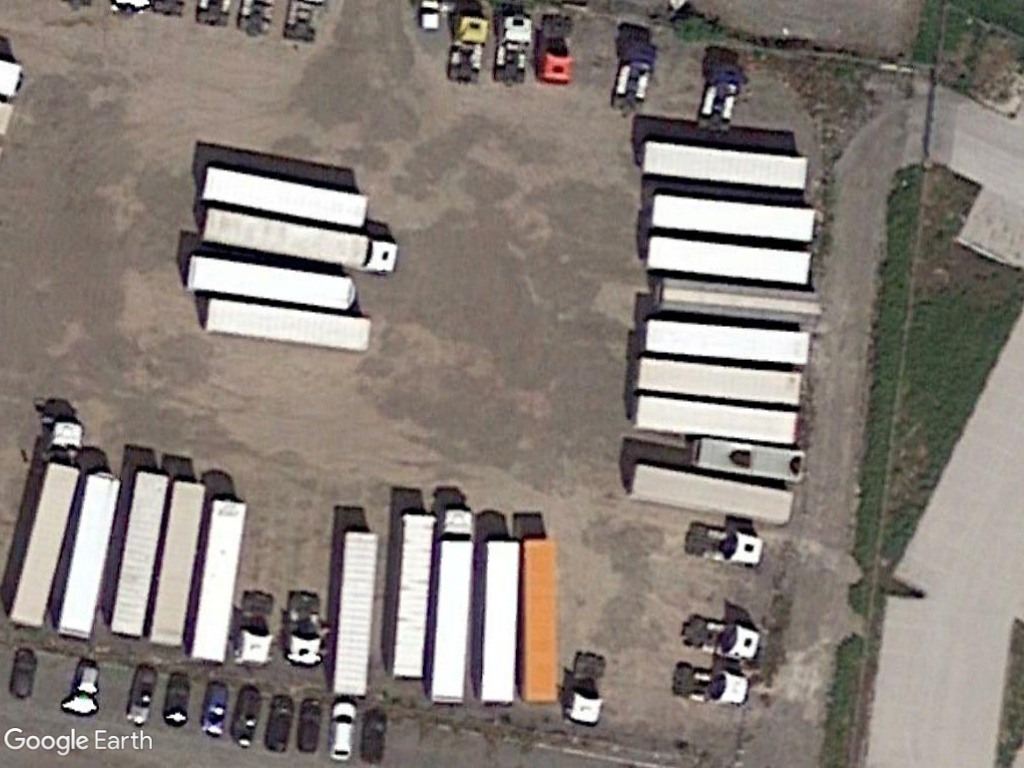car: (325, 698, 362, 764)
longvehicle: (7, 415, 89, 632), (199, 205, 400, 277), (195, 158, 377, 231), (53, 463, 126, 639), (627, 459, 801, 529), (106, 465, 171, 641), (188, 491, 252, 664), (146, 474, 209, 649), (636, 134, 811, 195), (182, 250, 361, 308), (427, 505, 478, 707), (324, 525, 381, 703), (642, 231, 817, 288), (628, 355, 806, 410), (203, 293, 374, 350), (627, 392, 801, 447), (387, 508, 441, 683), (644, 190, 825, 241), (640, 315, 815, 366), (475, 536, 521, 710), (517, 533, 562, 707)
